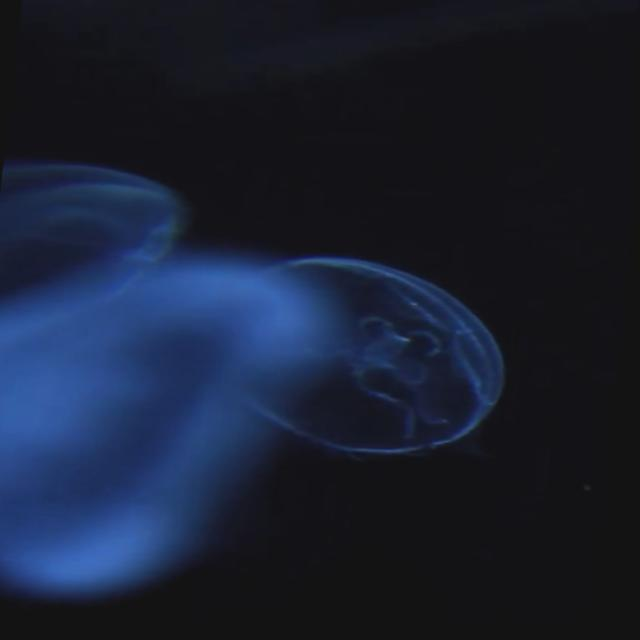Moon-jellyfish: (249, 252, 508, 459), (0, 152, 192, 309)
